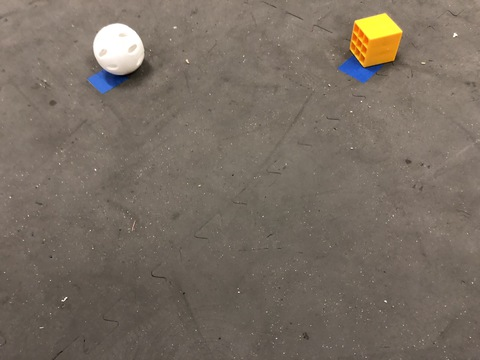ball: (76, 15, 154, 83)
block: (337, 9, 413, 87)
